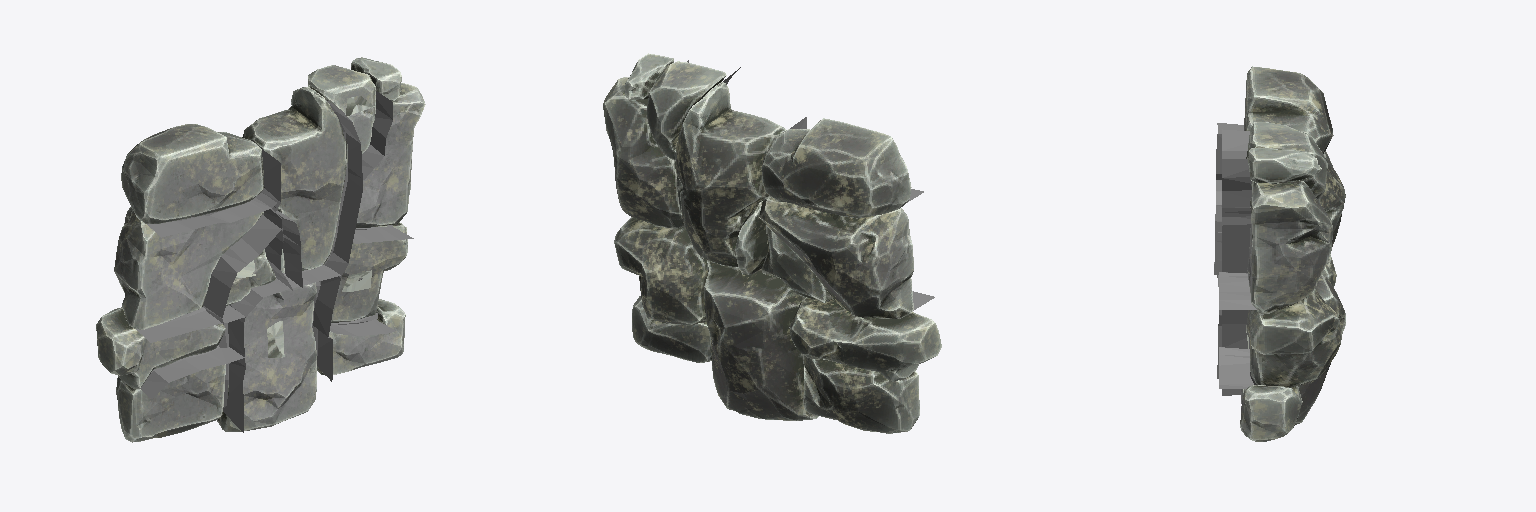
3 renders of one model, left to right at view 1: azimuth 30°, elevation 25°; view 2: azimuth 150°, elevation 25°; view 3: azimuth 270°, elevation 25°, orthographic.
Visible parts, largest first — view 1: Dn_HL_Floating_Platform_B; view 2: Dn_HL_Floating_Platform_B; view 3: Dn_HL_Floating_Platform_B.
Boxes of the visible parts, x1=… form: Dn_HL_Floating_Platform_B: x1=96, y1=57, x2=425, y2=442; Dn_HL_Floating_Platform_B: x1=603, y1=53, x2=941, y2=433; Dn_HL_Floating_Platform_B: x1=1214, y1=66, x2=1345, y2=441.
Size of the model in its own units: 7.96 by 7.77 by 2.88.
2 materials, 1 textured.